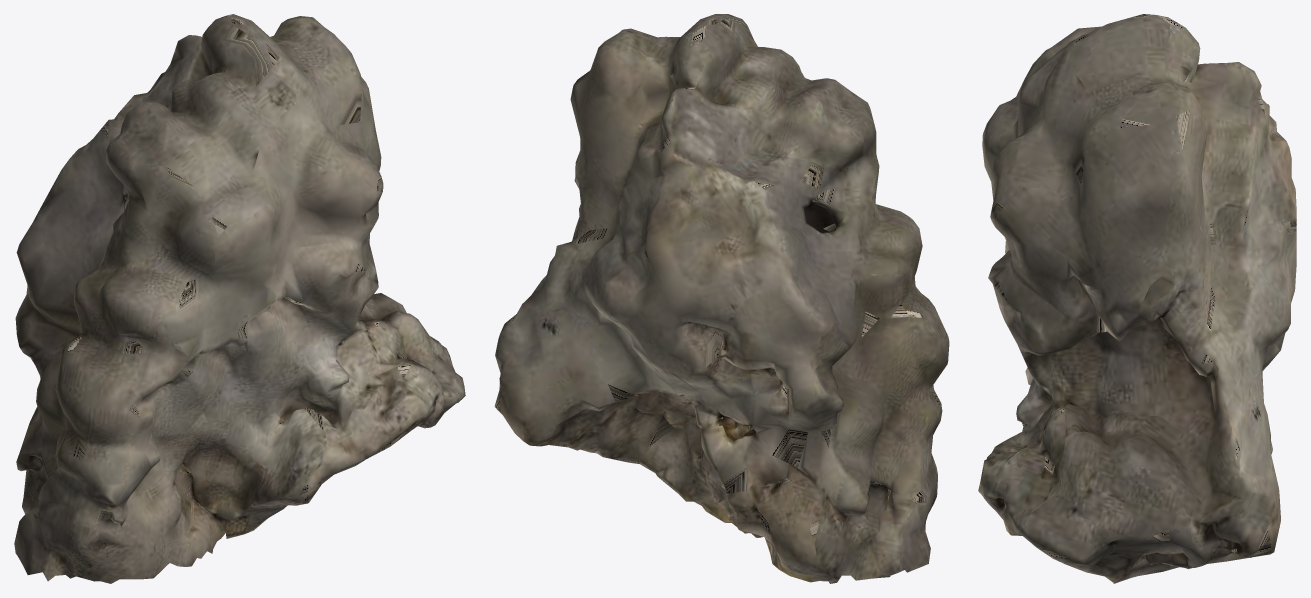
Rendered from massive-coral.glb.
3 views of the same model, side by side, from view 1: azimuth 30°, elevation 25°; view 2: azimuth 150°, elevation 25°; view 3: azimuth 270°, elevation 25° (orthographic). The views are drawn at different scales.
Bounding box in the file's own units: 1.56 × 1.82 × 0.9338.
1 material, 1 textured.
